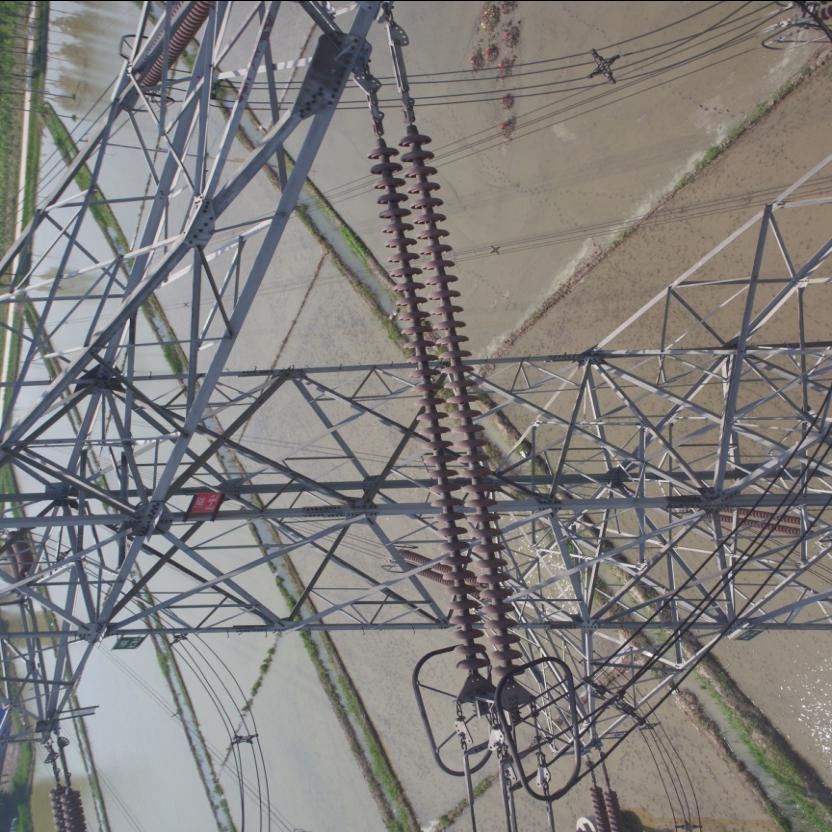insulator: (361, 104, 525, 690)
